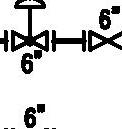valve: (82, 31, 122, 51)
